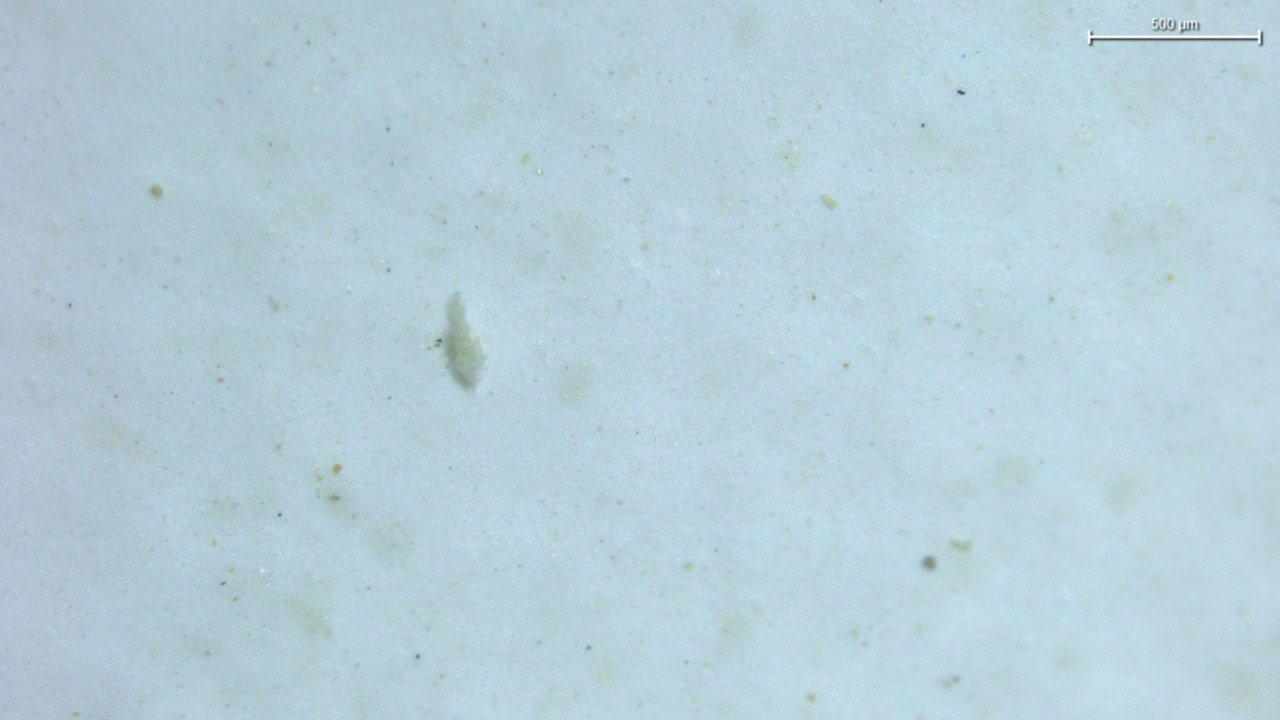microplastic_fragment: (440, 291, 486, 390)
